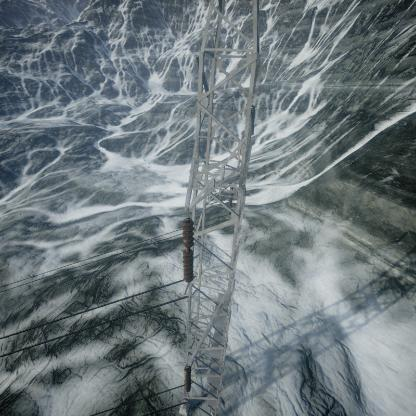insulator: (180, 218, 196, 283), (183, 366, 193, 392)
